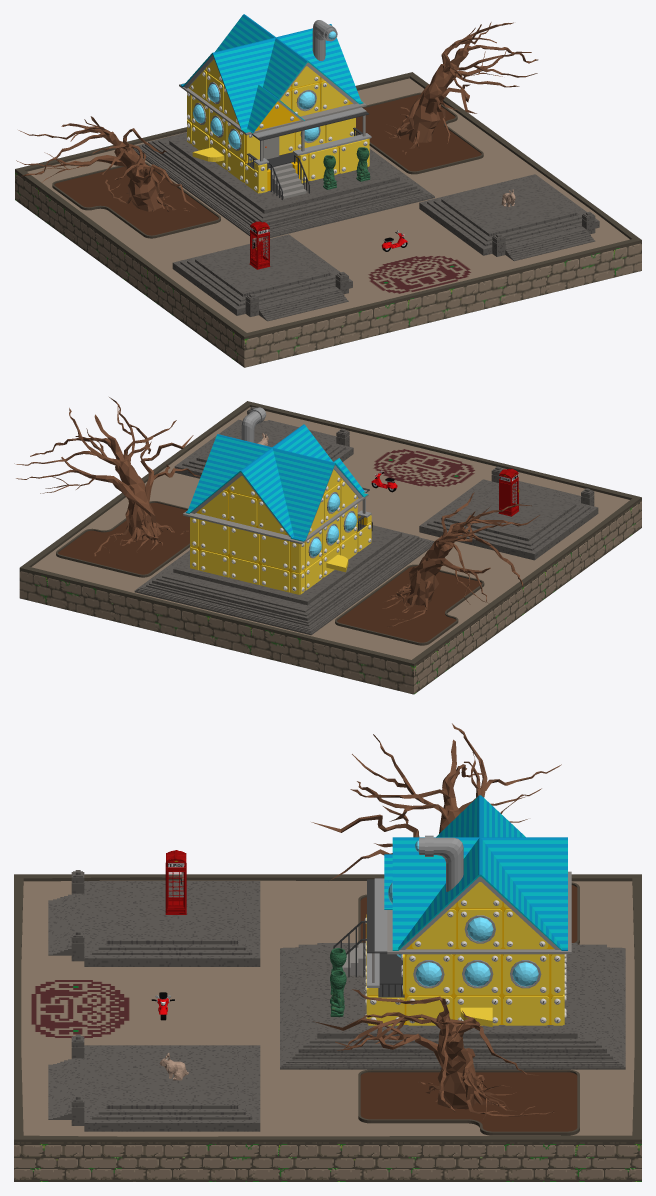
3 renders of one model, top to bottom at view 1: azimuth 30°, elevation 25°; view 2: azimuth 150°, elevation 25°; view 3: azimuth 270°, elevation 25°, orthographic. The views are drawn at different scales.
Parts seen in each view (by area): view 1: Cube.011, Cube.1366, OBJRANDOM_PHONEBOOTH; view 2: Cube.011, Cube.1366, OBJRANDOM_PHONEBOOTH; view 3: Cube.011, Cube.1366, OBJRANDOM_PHONEBOOTH.
Part boxes in pixels (x1,y1,x2,y2): Cube.011: (15, 22, 641, 367); Cube.1366: (179, 14, 371, 199); OBJRANDOM_PHONEBOOTH: (249, 221, 270, 269); Cube.011: (14, 397, 641, 694); Cube.1366: (183, 407, 372, 594); OBJRANDOM_PHONEBOOTH: (498, 468, 519, 516); Cube.011: (14, 723, 641, 1181); Cube.1366: (333, 795, 571, 1026); OBJRANDOM_PHONEBOOTH: (165, 850, 186, 914).
Bounding box in the file's own units: 5099 × 1848 × 4000.
41 materials, 5 textured.
